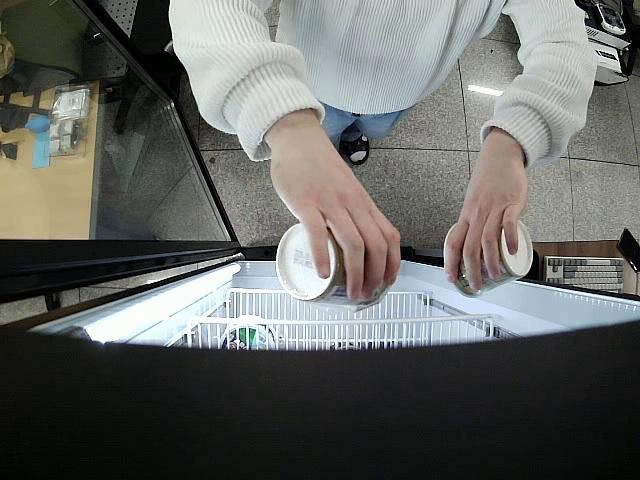00_hand: (269, 131, 399, 303), (444, 149, 525, 287)
04_chapagetti_S: (275, 221, 391, 313), (443, 220, 533, 299)
